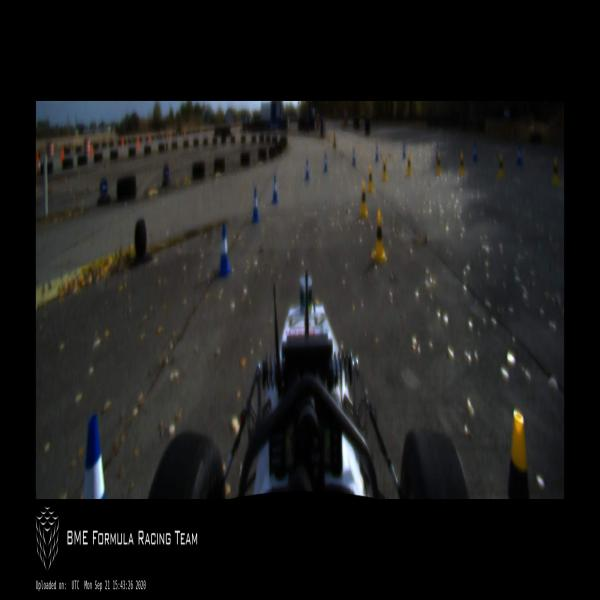blue_cone: (82, 413, 108, 499), (216, 222, 232, 280), (251, 189, 260, 221), (271, 176, 278, 202), (304, 159, 310, 180), (323, 151, 328, 171), (516, 146, 521, 166), (352, 148, 356, 166), (473, 146, 476, 163), (376, 145, 379, 162), (436, 143, 439, 160), (403, 142, 406, 158)
yellow_cone: (506, 410, 530, 499), (372, 208, 386, 264), (359, 182, 368, 216), (497, 154, 505, 180), (367, 163, 374, 192), (552, 156, 558, 187), (459, 152, 465, 177), (382, 158, 388, 182), (406, 153, 412, 176), (436, 152, 440, 174)
